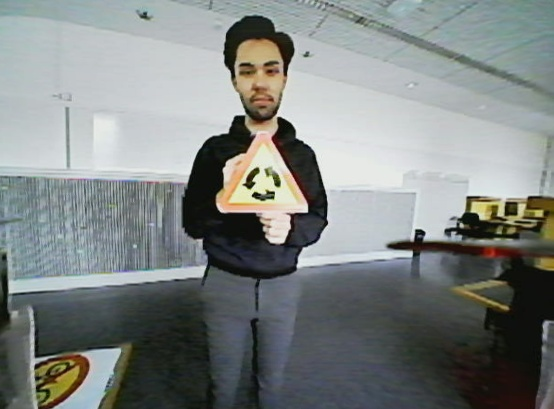roundabout_warning: (214, 128, 315, 219)
